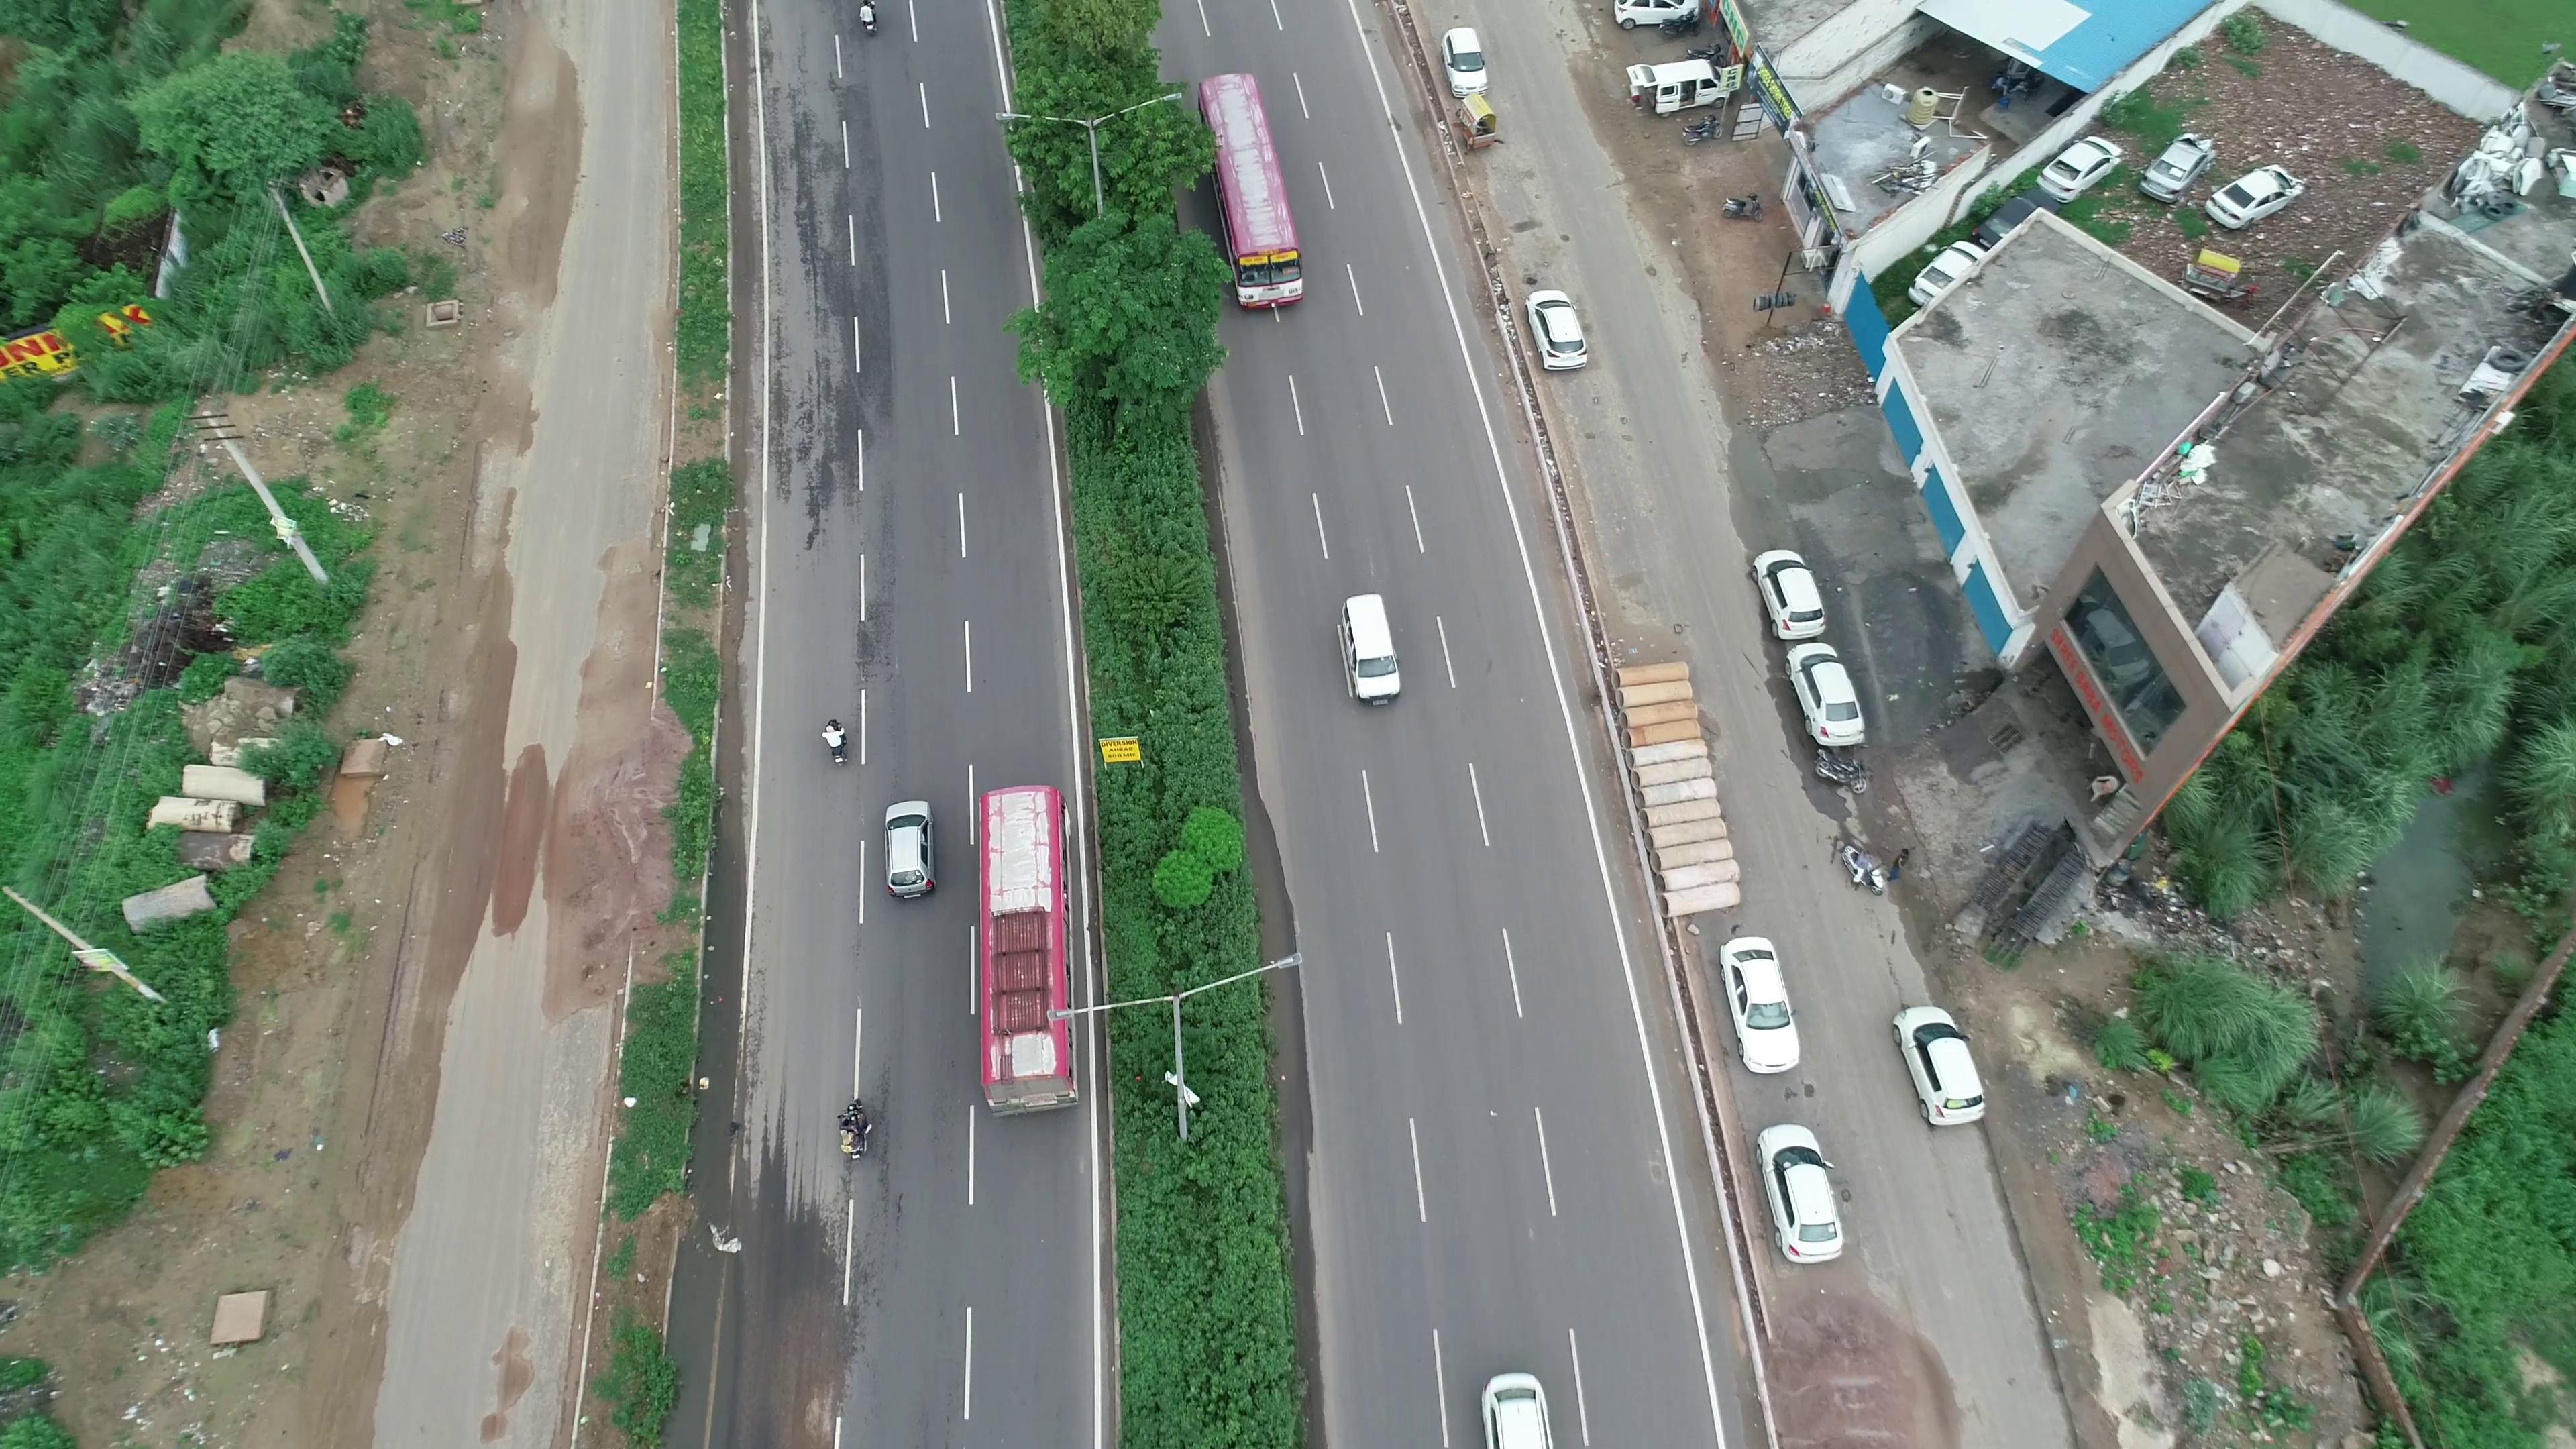Muddy_road: (536, 632, 653, 996)
Ravelling: (764, 96, 840, 527), (869, 495, 908, 683)
